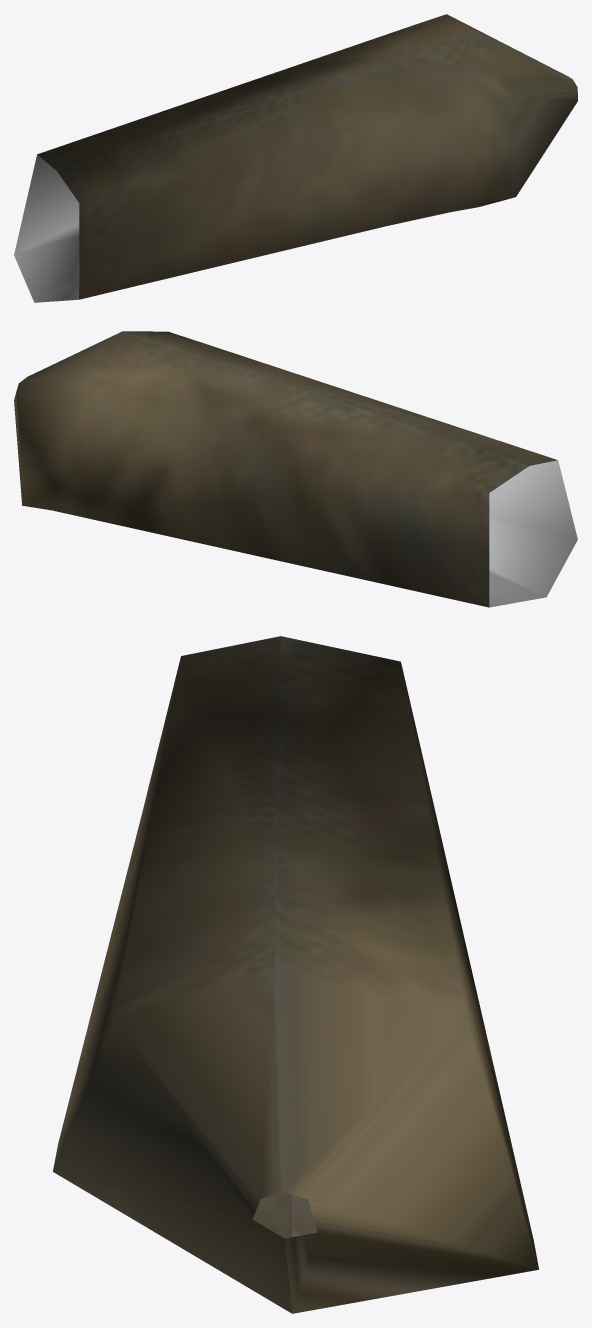
File: foresleeve.fbx
3 views of the same model, one above another, from view 1: azimuth 30°, elevation 25°; view 2: azimuth 150°, elevation 25°; view 3: azimuth 270°, elevation 25° (orthographic). The views are drawn at different scales.
Parts seen in each view (by area): view 1: Mesh_001; view 2: Mesh_001; view 3: Mesh_001.
Part boxes in pixels (x1,y1,x2,y2): Mesh_001: (14, 14, 577, 302); Mesh_001: (14, 331, 577, 607); Mesh_001: (53, 636, 538, 1313).
Bounding box in the file's own units: 7.35 × 2.28 × 2.94.
